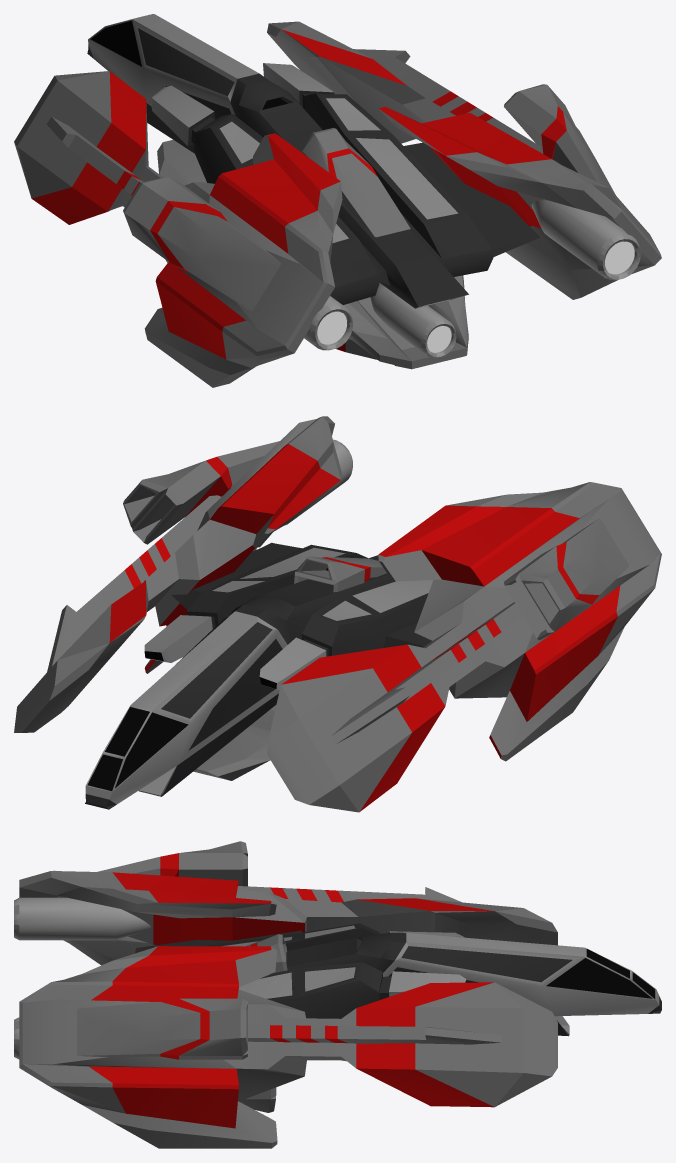
File: SpaceEnemyShooter.fbx
3 views of the same model, one above another, from view 1: azimuth 30°, elevation 25°; view 2: azimuth 150°, elevation 25°; view 3: azimuth 270°, elevation 25° (orthographic). The views are drawn at different scales.
Parts seen in each view (by area): view 1: base; view 2: base; view 3: base.
Part boxes in pixels (x1=…): base: x1=14, y1=14, x2=661, y2=387; base: x1=14, y1=416, x2=661, y2=812; base: x1=14, y1=841, x2=661, y2=1148.
Bounding box in the file's own units: 8953 × 4204 × 13392.
